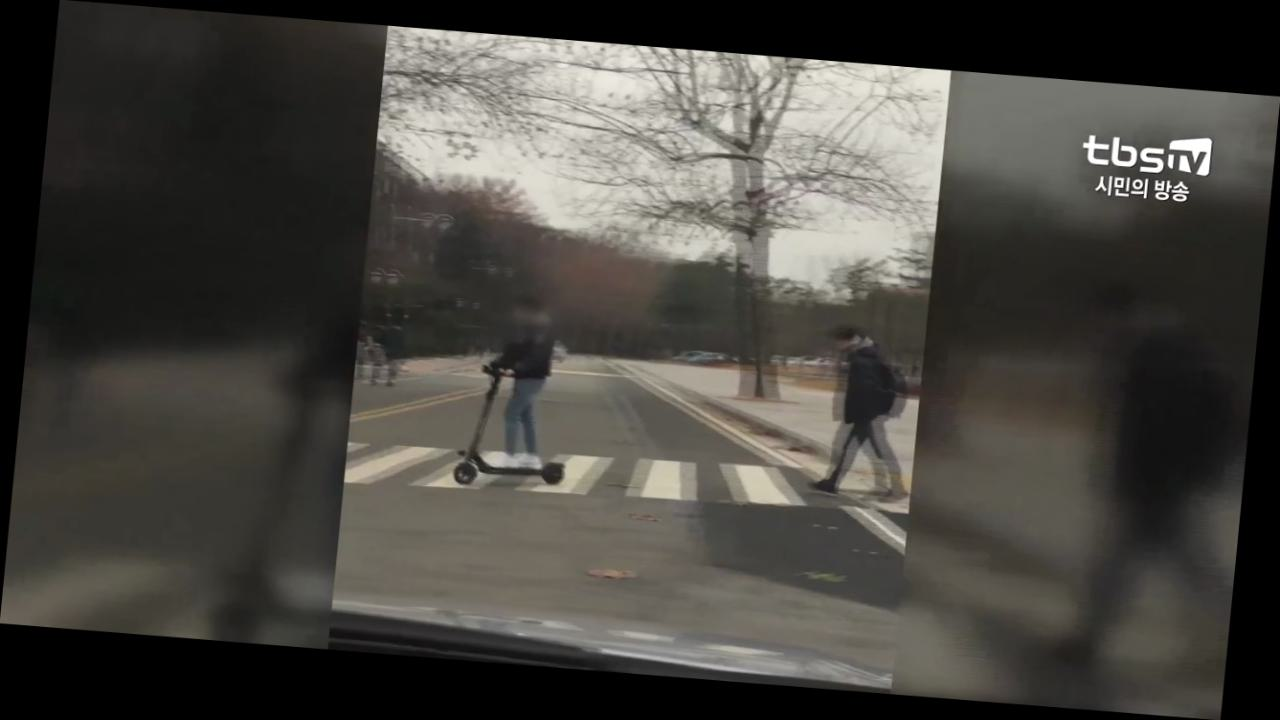nonhelmet: (444, 288, 586, 494)
